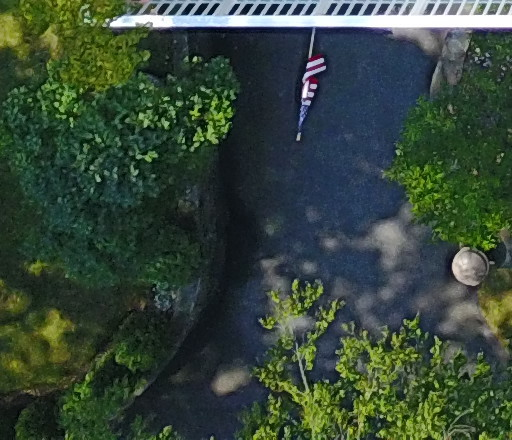container: (448, 242, 498, 296)
